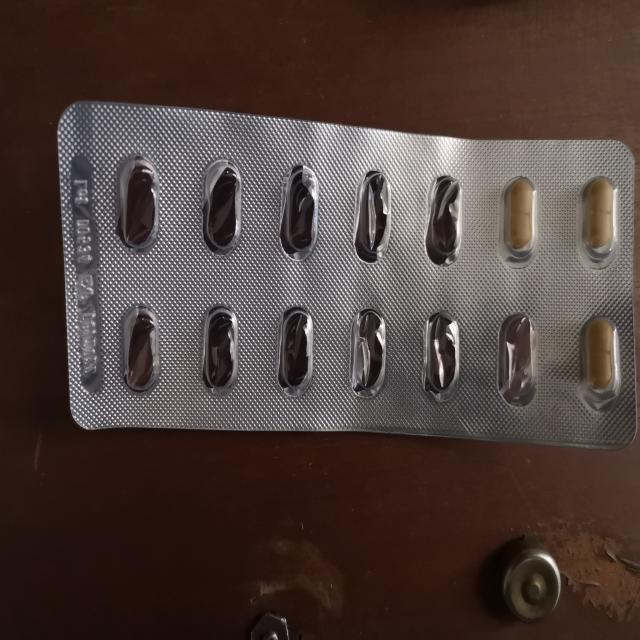Empty: (108, 140, 168, 260), (487, 295, 547, 413), (110, 295, 171, 404), (188, 153, 246, 264), (347, 157, 400, 271), (271, 290, 321, 409), (418, 157, 469, 273), (273, 151, 321, 271), (419, 297, 468, 411), (192, 297, 243, 404), (343, 292, 392, 398)
Pill: (574, 301, 626, 417), (576, 168, 629, 273), (495, 161, 544, 269)
